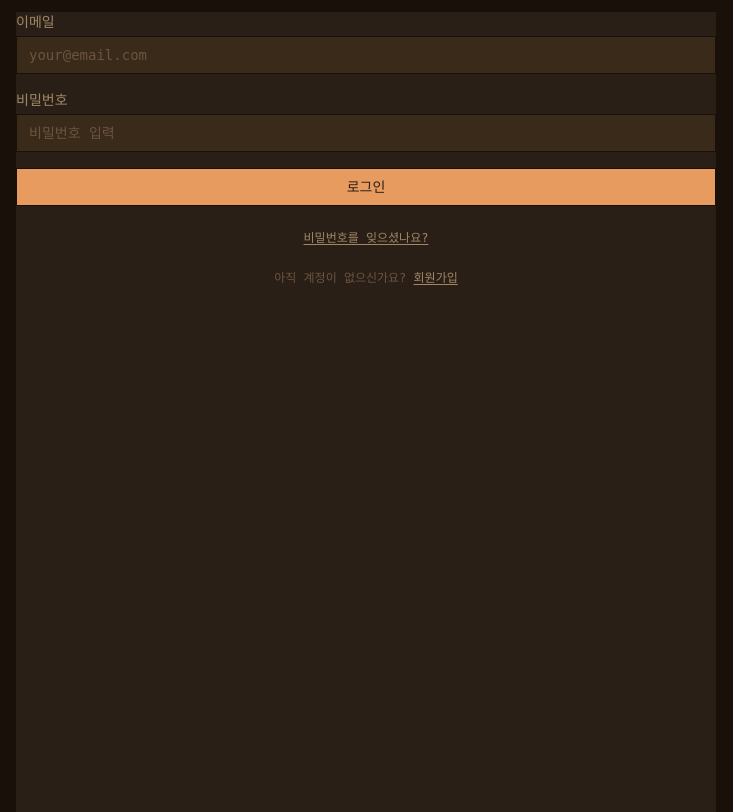
it: LoginForm › Email not confirmed 에러 시 이메일 확인 안내를 표시한다
Type "user@example.com" into the field labelled "이메일".
click(366, 55); type("user@example.com")  # box [16,36,716,74]
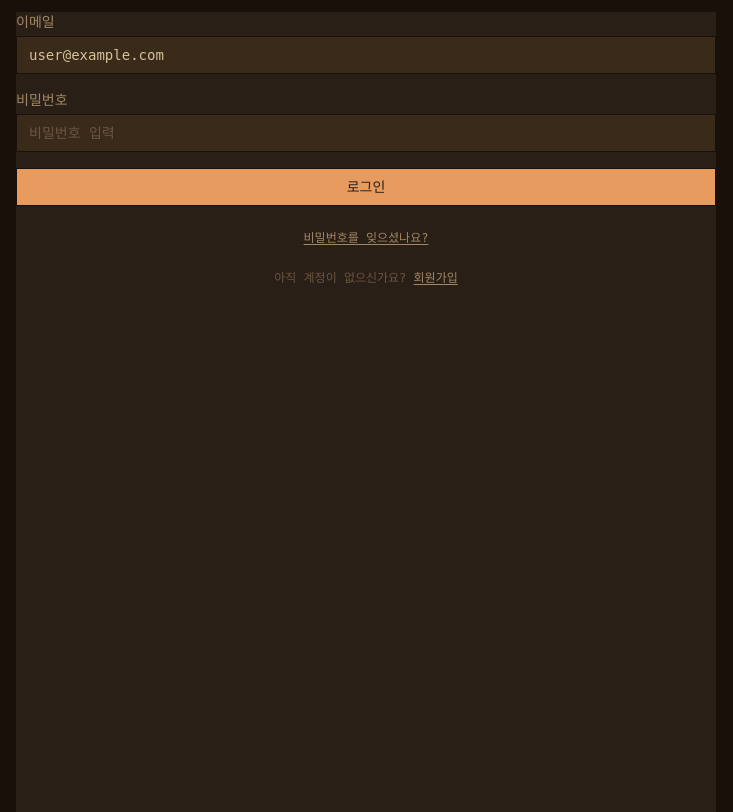
Type "Password1" into the password field labelled "비밀번호".
click(366, 133); type("Password1")  # box [16,114,716,152]
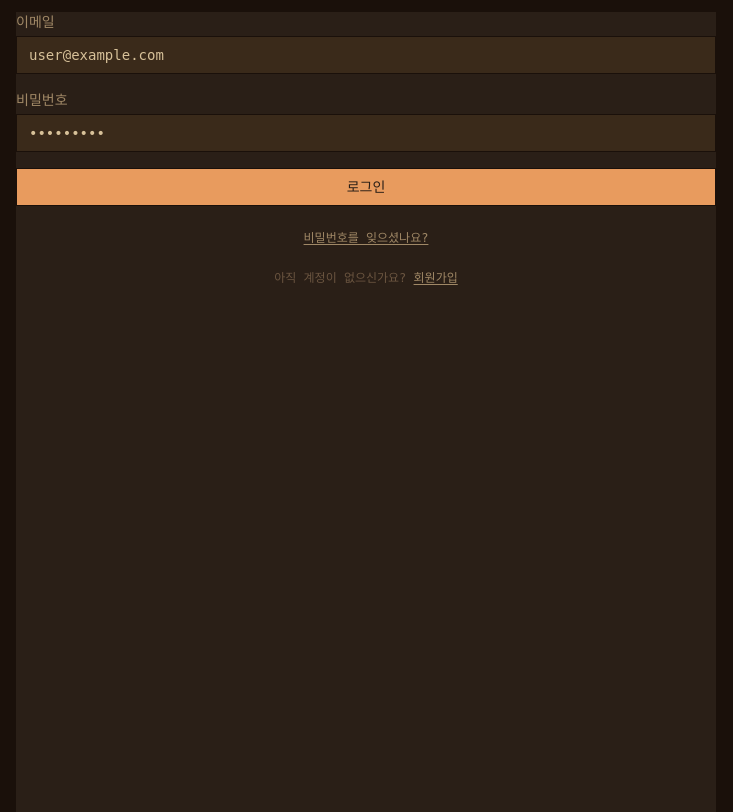
Click the button "로그인".
click(366, 187)  # box [16,168,716,206]
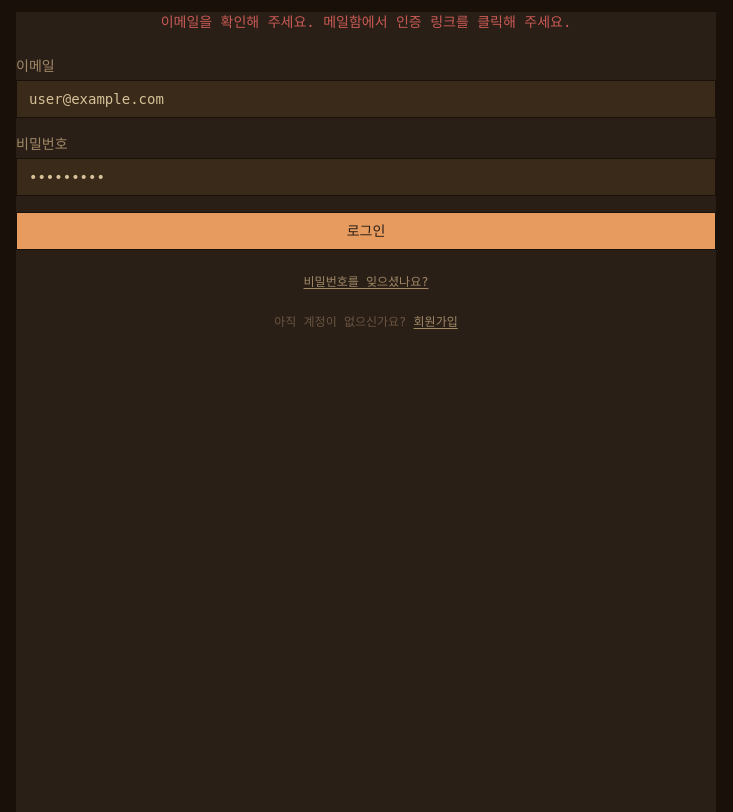
Now the text "이메일을 확인해 주세요. 메일함에서 인증 링크를 클릭해 주세요." is shown, box [161,14,571,30]
